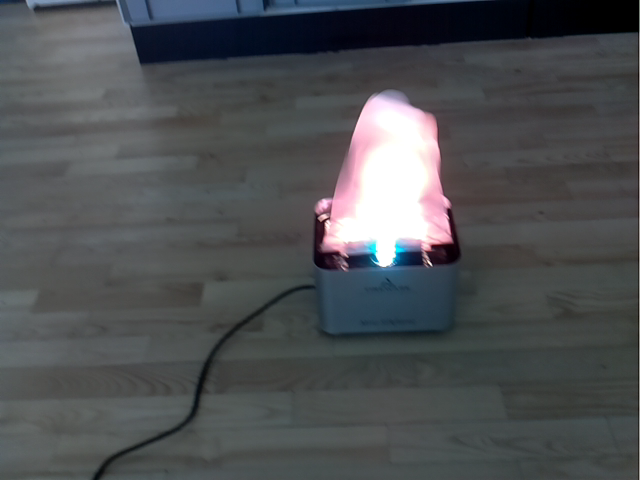fire: (319, 88, 453, 254)
